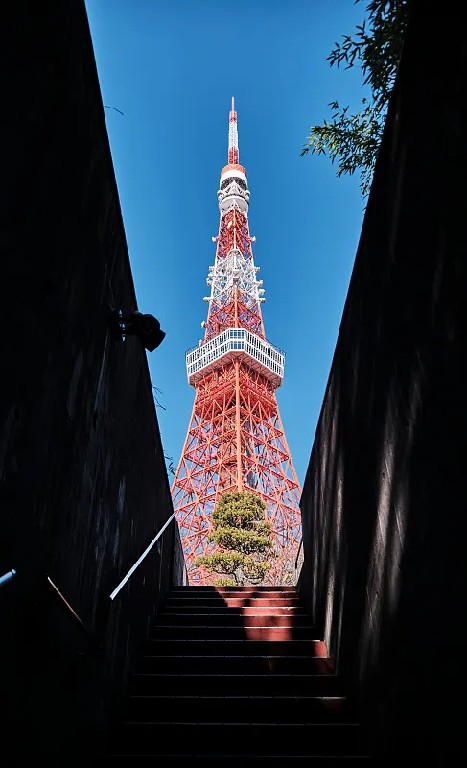Tokyo: (171, 90, 299, 586)
